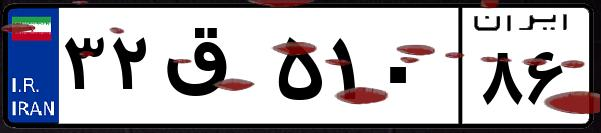0: (385, 28, 445, 110)
1: (330, 28, 385, 110)
2: (110, 28, 158, 98)
3: (57, 26, 110, 100)
5: (270, 28, 330, 110)
6: (525, 38, 570, 115)
8: (475, 38, 525, 113)
ق: (158, 20, 270, 120)
